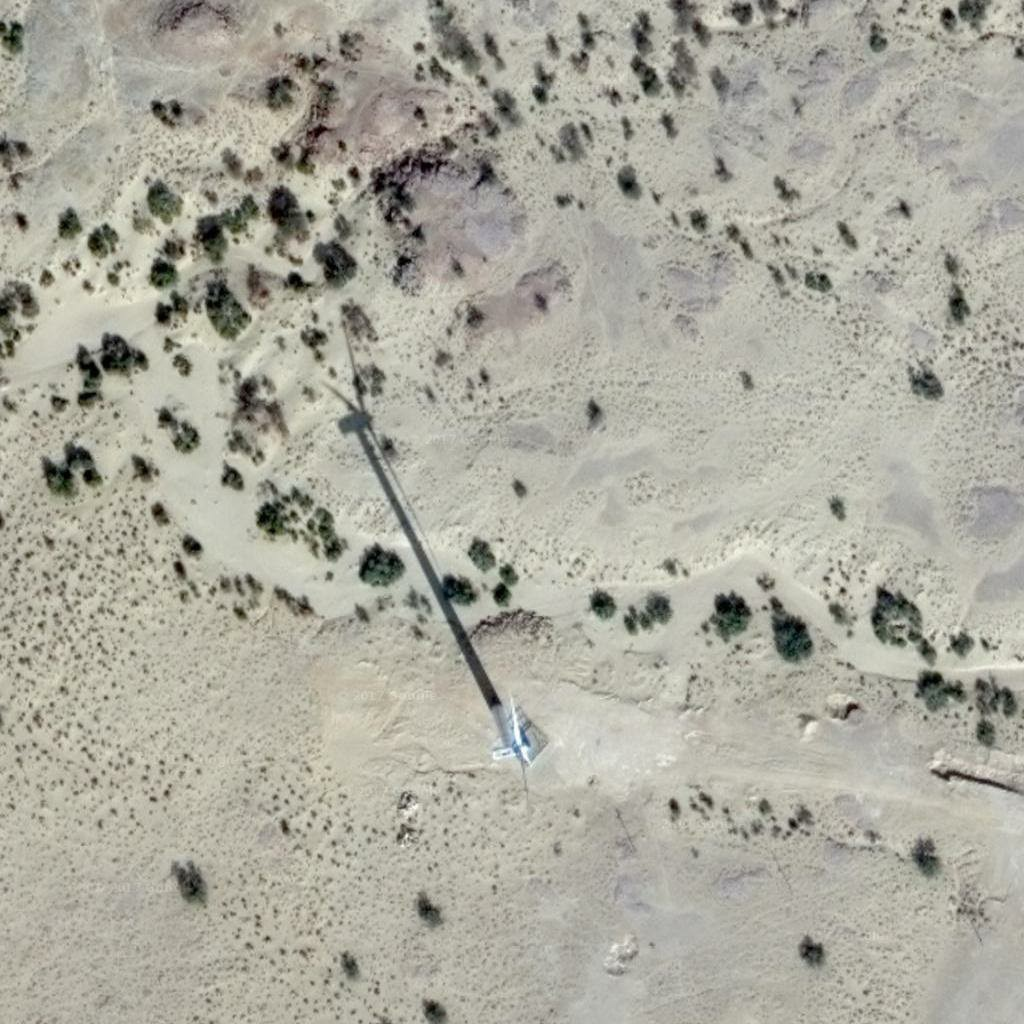Windmill: (294, 337, 518, 707)
